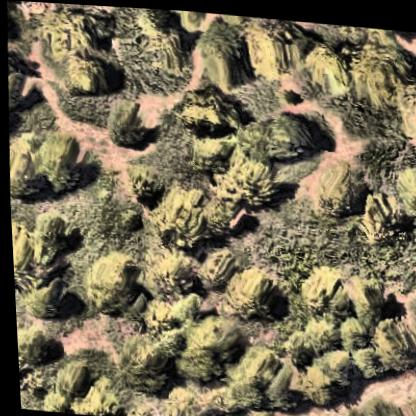tree-top: (171, 303, 243, 391), (32, 347, 123, 416), (29, 115, 92, 206), (210, 138, 285, 213), (145, 174, 214, 255), (113, 323, 183, 402), (82, 240, 148, 322), (33, 2, 123, 61), (304, 147, 371, 226), (215, 252, 284, 323), (175, 77, 245, 144), (354, 21, 416, 96), (257, 96, 320, 169), (102, 85, 166, 153), (295, 335, 354, 408), (245, 13, 305, 84), (197, 9, 252, 80), (360, 180, 411, 255), (137, 246, 202, 304), (303, 17, 357, 85), (295, 252, 346, 321), (192, 237, 244, 299), (57, 46, 114, 102), (6, 130, 45, 203), (368, 313, 416, 365)
